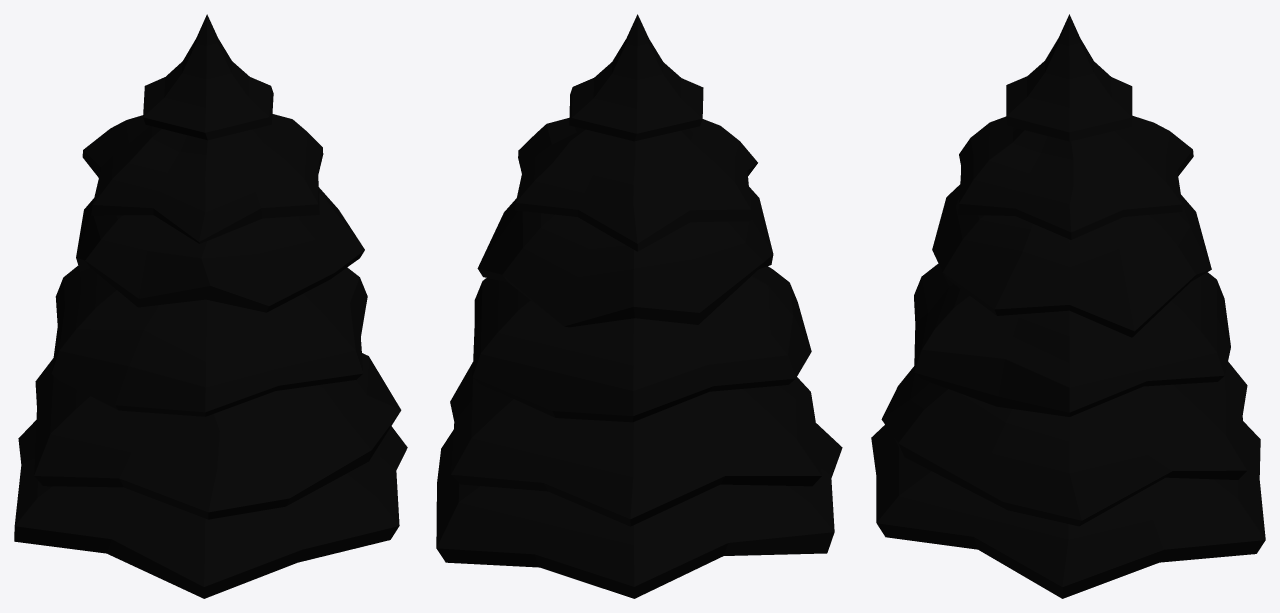
The model's file is Christmas_tree.fbx.
3 views of the same model, side by side, from view 1: azimuth 30°, elevation 25°; view 2: azimuth 150°, elevation 25°; view 3: azimuth 270°, elevation 25° (orthographic).
Visible parts, largest first — view 1: cristmas_tree.002; view 2: cristmas_tree.002; view 3: cristmas_tree.002.
Boxes of the visible parts, bbox=[...] form: cristmas_tree.002: bbox=[14, 14, 407, 598]; cristmas_tree.002: bbox=[436, 14, 842, 598]; cristmas_tree.002: bbox=[871, 14, 1265, 598].
Size of the model in its own units: 285 by 375 by 250.
